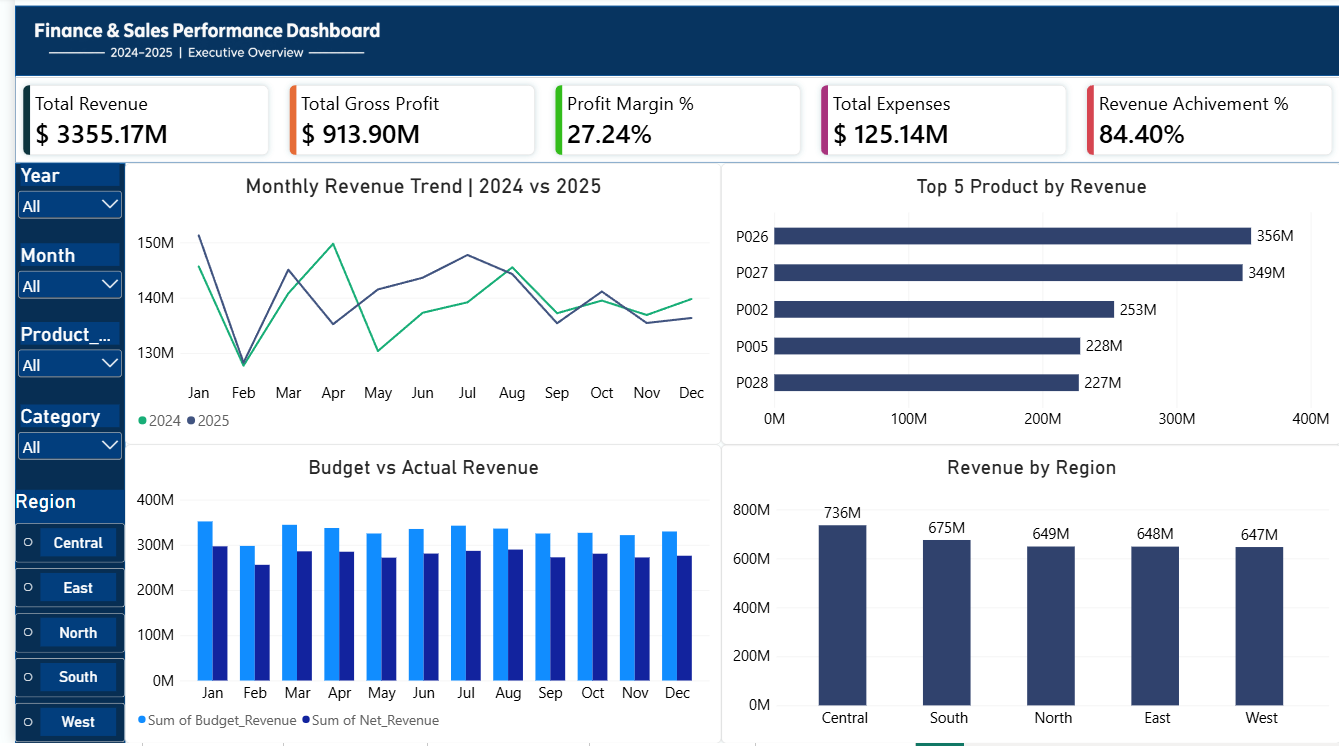

The dashboard page shown, as its layout file describes it:
{"tool":"powerbi","page":{"name":"Excutive Overview","canvas":[1920,1080],"ordinal":0},"visuals":[{"type":"shape","box":[0,101.9,1919.2,138.5],"z":0},{"type":"cardVisual","fields":{"Data":["Sales.Total Revenue","Sales.Total Gross Profit","Sales.Profit Margin %","Expenses.Total Expenses","Budget.Revenue Achivement %"]},"box":[0,115.4,1919.2,125],"z":1000},{"type":"shape","box":[0,240.4,159.6,840.4],"z":2000},{"type":"shape","box":[0,13.5,1919.2,101.9],"z":3000},{"type":"image","box":[19.2,13.5,515.4,101.9],"z":4000},{"type":"lineChart","title":"Monthly Revenue Trend | 2024 vs 2025","fields":{"Y":["Sum(finance sales.Net_Revenue)"],"Series":["Calendar.Year"],"Category":["Calendar.Month"]},"box":[159.3,240.7,863.2,407.2],"z":5000},{"type":"columnChart","title":"Revenue by Region","fields":{"Category":["finance regions.Region"],"Y":["Sum(finance sales.Net_Revenue)"]},"box":[1022.5,647.9,897.6,432.5],"z":6000},{"type":"barChart","title":"Top 5 Product by Revenue","fields":{"Category":["finance products.Product_ID"],"Y":["Sum(finance sales.Net_Revenue)"]},"box":[1022.5,240.7,897.6,407.2],"z":7000},{"type":"clusteredColumnChart","title":"Budget vs Actual Revenue","fields":{"Category":["Calendar.Month"],"Y":["Sum(finance budget.Budget_Revenue)","Sum(finance sales.Net_Revenue)"]},"box":[159.3,647.9,863.2,432.5],"z":8000},{"type":"slicer","fields":{"Values":["Calendar.Year"]},"box":[0,240.7,159.3,88.7],"z":9000},{"type":"slicer","fields":{"Values":["Calendar.Month"]},"box":[0,356.5,159.3,88.7],"z":10000},{"type":"slicer","fields":{"Values":["finance products.Product_ID"]},"box":[0,470.5,159.3,88.7],"z":11000},{"type":"slicer","fields":{"Values":["finance products.Category"]},"box":[0,589.9,159.3,88.7],"z":12000},{"type":"advancedSlicerVisual","fields":{"Values":["finance regions.Region"]},"box":[0,713,159.3,367.4],"z":13000}]}

Visuals, with their boxes in screenshot pixels (x1, y1, x2, y2), scaled from the page's 1920x1080 canvas onto the 1339x746 screenshot:
shape: <bbox>0, 70, 1338, 166</bbox>
cardVisual - Sales.Total Revenue x Sales.Total Gross Profit: <bbox>0, 80, 1338, 166</bbox>
shape: <bbox>0, 166, 111, 745</bbox>
shape: <bbox>0, 9, 1338, 80</bbox>
image: <bbox>13, 9, 373, 80</bbox>
"Monthly Revenue Trend | 2024 vs 2025" lineChart: <bbox>111, 166, 713, 448</bbox>
"Revenue by Region" columnChart: <bbox>713, 448, 1338, 745</bbox>
"Top 5 Product by Revenue" barChart: <bbox>713, 166, 1338, 448</bbox>
"Budget vs Actual Revenue" clusteredColumnChart: <bbox>111, 448, 713, 745</bbox>
slicer - Calendar.Year: <bbox>0, 166, 111, 228</bbox>
slicer - Calendar.Month: <bbox>0, 246, 111, 308</bbox>
slicer - finance products.Product_ID: <bbox>0, 325, 111, 386</bbox>
slicer - finance products.Category: <bbox>0, 407, 111, 469</bbox>
advancedSlicerVisual - finance regions.Region: <bbox>0, 492, 111, 745</bbox>
